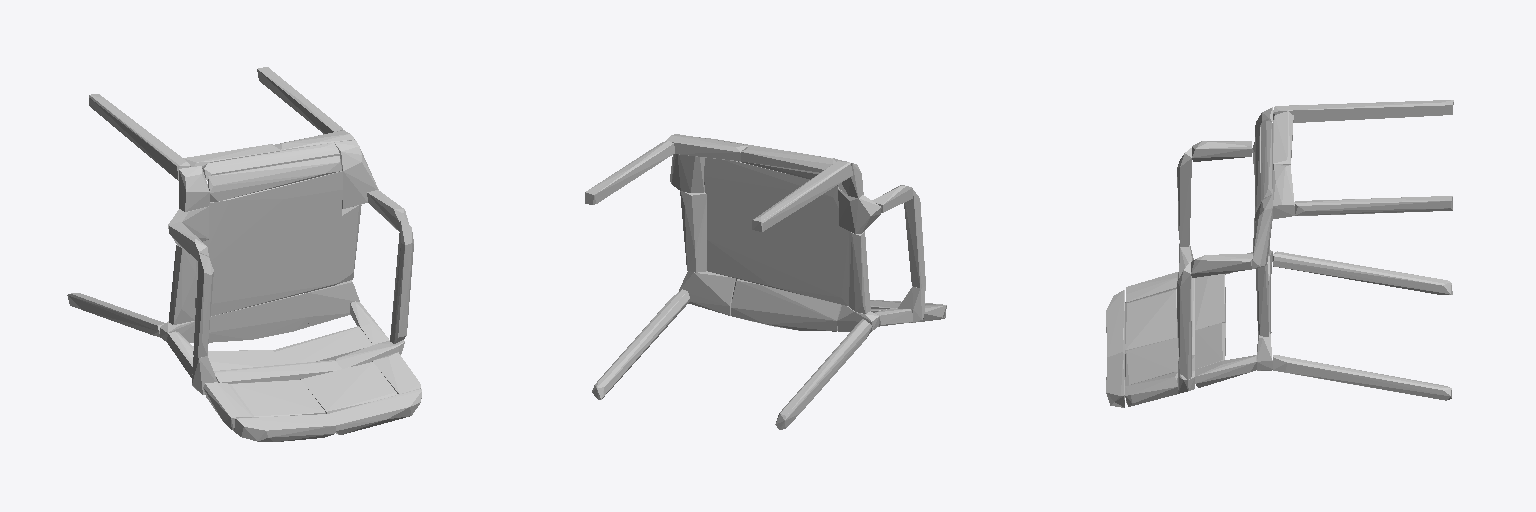
The picture shows the model from 3 angles: view 1: azimuth 30°, elevation 25°; view 2: azimuth 150°, elevation 25°; view 3: azimuth 270°, elevation 25°; orthographic projection.
Visible parts, largest first — view 1: convex_22, convex_28, convex_19, convex_23, convex_18, convex_6, convex_7, convex_2, convex_31, convex_11, convex_16, convex_14 (+20 smaller); view 2: convex_22, convex_28, convex_0, convex_1, convex_2, convex_24, convex_12, convex_4, convex_3, convex_21, convex_9, convex_5 (+5 smaller); view 3: convex_0, convex_2, convex_1, convex_18, convex_4, convex_19, convex_30, convex_11, convex_9, convex_31, convex_20, convex_32 (+10 smaller).
Part boxes in pixels (left/top/right/bottom): convex_22: left=195, top=171, right=342, bottom=315; convex_28: left=209, top=293, right=308, bottom=342; convex_19: left=300, top=362, right=397, bottom=413; convex_23: left=208, top=156, right=341, bottom=201; convex_18: left=228, top=380, right=325, bottom=416; convex_6: left=234, top=414, right=335, bottom=441; convex_7: left=328, top=389, right=421, bottom=434; convex_2: left=89, top=94, right=190, bottom=180; convex_31: left=273, top=326, right=372, bottom=364; convex_11: left=390, top=221, right=413, bottom=343; convex_16: left=202, top=143, right=339, bottom=180; convex_14: left=214, top=360, right=341, bottom=383; convex_22: left=704, top=158, right=848, bottom=305; convex_28: left=731, top=279, right=841, bottom=331; convex_0: left=775, top=319, right=872, bottom=429; convex_1: left=592, top=289, right=689, bottom=399; convex_2: left=752, top=161, right=852, bottom=231; convex_24: left=680, top=191, right=706, bottom=272; convex_12: left=679, top=271, right=735, bottom=315; convex_4: left=585, top=141, right=674, bottom=204; convex_3: left=741, top=145, right=835, bottom=173; convex_21: left=849, top=231, right=870, bottom=313; convex_9: left=904, top=190, right=925, bottom=288; convex_5: left=666, top=134, right=748, bottom=161; convex_0: left=1273, top=251, right=1452, bottom=294; convex_2: left=1273, top=100, right=1453, bottom=122; convex_1: left=1273, top=355, right=1451, bottom=400; convex_18: left=1125, top=289, right=1177, bottom=353; convex_4: left=1295, top=196, right=1452, bottom=215; convex_19: left=1125, top=338, right=1177, bottom=385; convex_30: left=1195, top=274, right=1225, bottom=329; convex_11: left=1177, top=261, right=1191, bottom=379; convex_9: left=1177, top=148, right=1191, bottom=246; convex_31: left=1195, top=323, right=1225, bottom=369; convex_20: left=1125, top=372, right=1177, bottom=406; convex_32: left=1195, top=355, right=1256, bottom=387.
Bounding box in the file's own units: 0.5516 × 0.5608 × 0.7538.